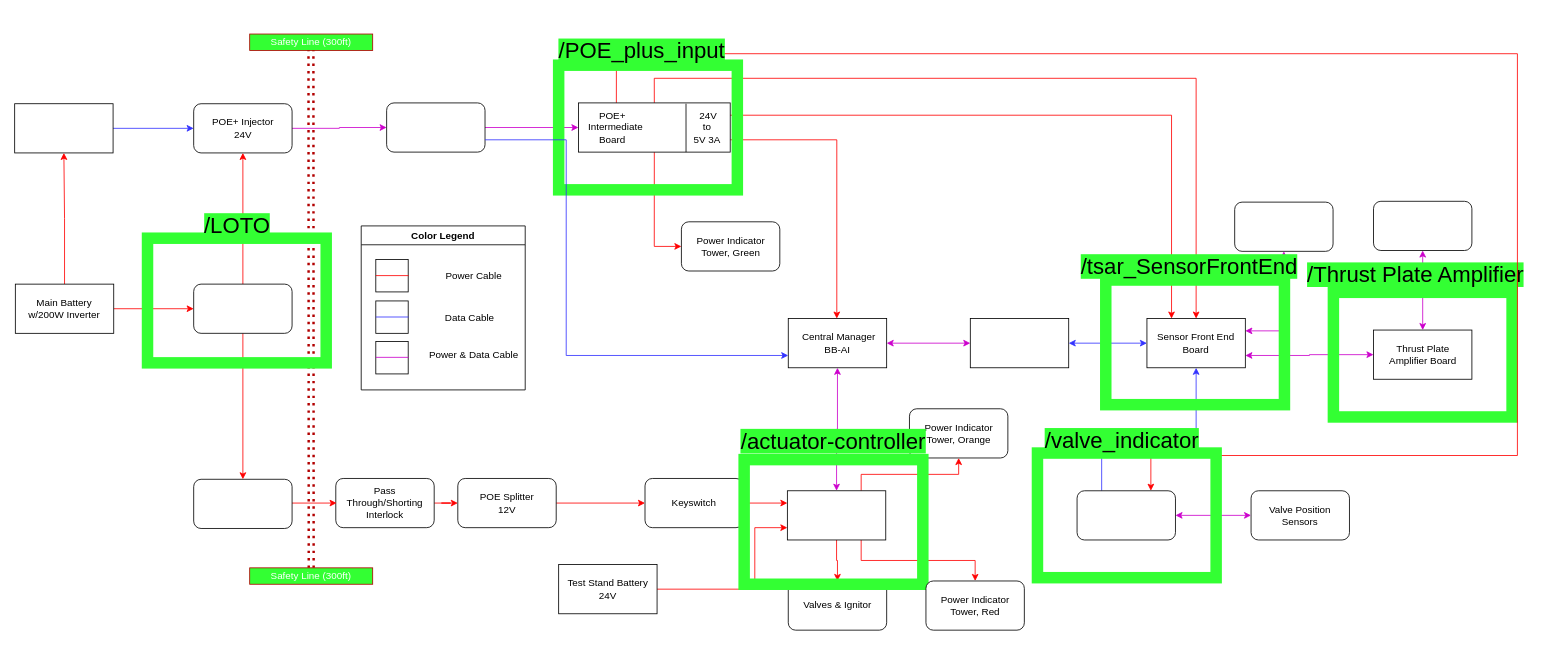
The diagram is 1560 pixels wide and 645 high, and some of its shapes have lost their labels. The centre of each missing label's shape, as x and y in pixels:
Actuator Controller: (836,515)
Command & Control Laptop: (63,128)
Load Cells: (1422,225)
LOTO: (242,308)
Marionette: (1019,343)
POE Injector 12V: (242,503)
POE+ Splitter 24V: (435,127)
Pressure, Temperature, and Position Sensors: (1283,226)
Valve Indicator Tower: (1125,515)
